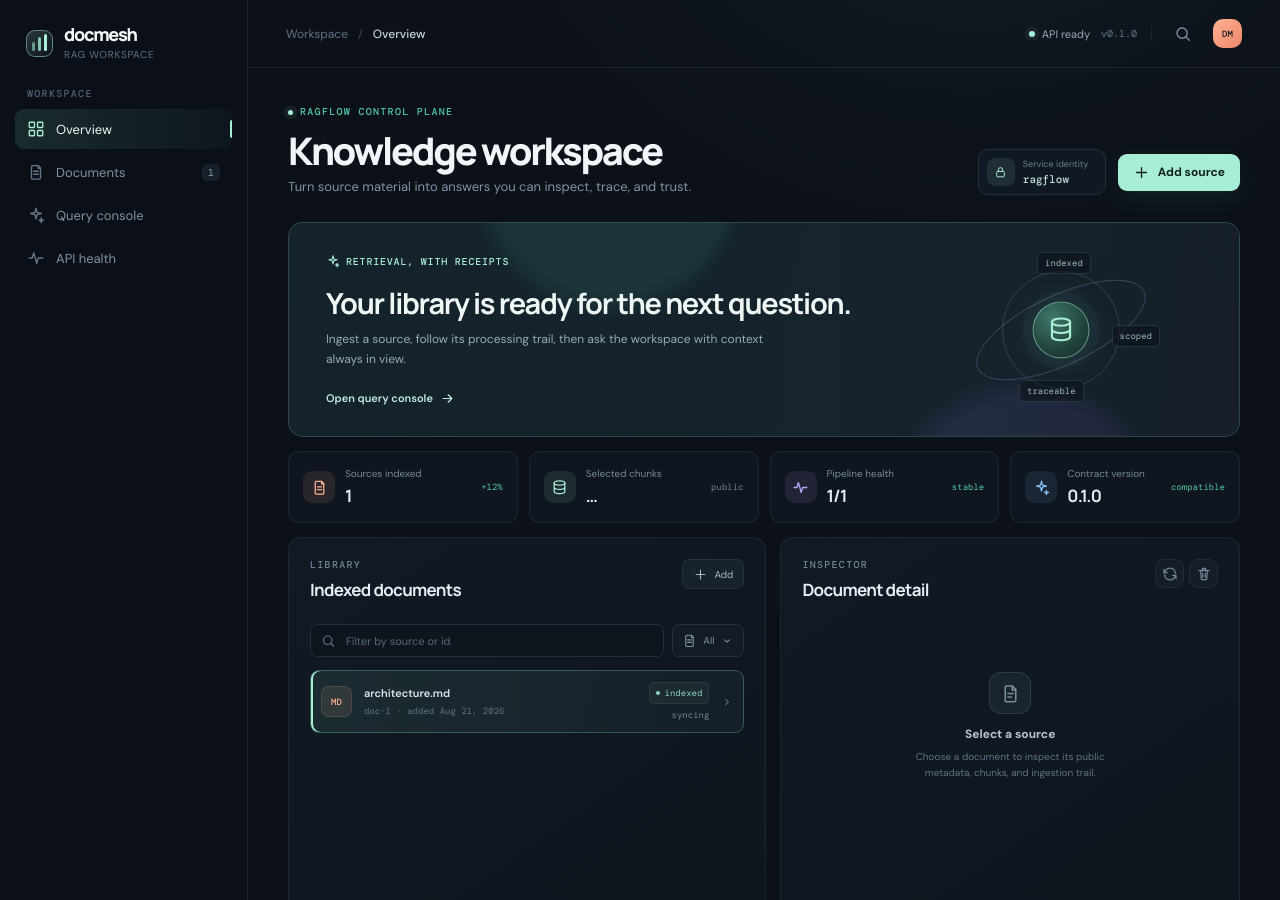
Test: RAG Flow workspace › changes the main view and active sidebar tab
The width and height of the screenshot is (1280, 900).
expect the text "architecture.md" is shown: met, box [364,686,450,700]
Click the button "Documents 1": (124, 172) [15,152,232,192]
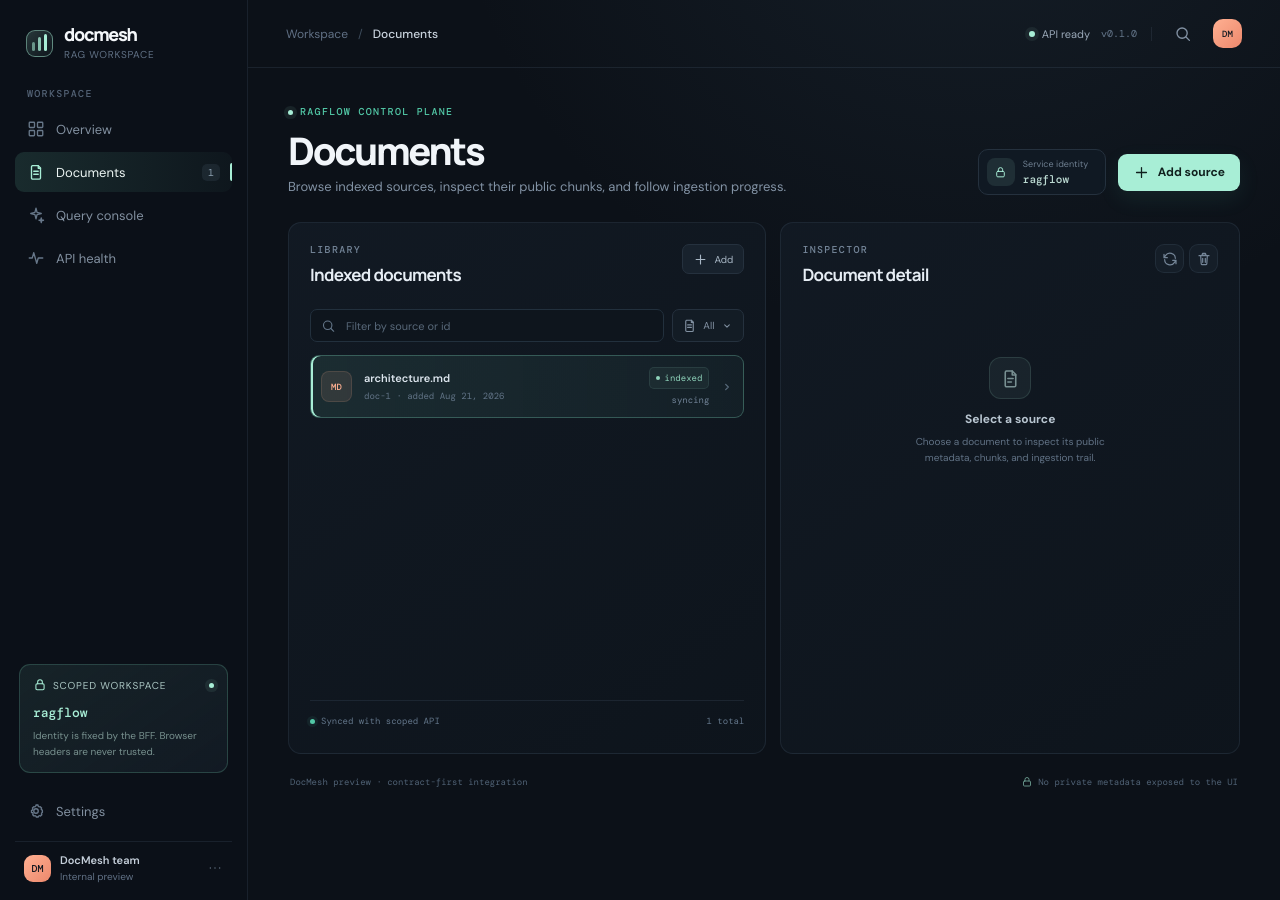
expect the heading "Documents" is shown: met, box [288,124,483,176]
expect the heading "Your library is ready for the next question." is gone: met
Click the button "Query console": (124, 215) [15,195,232,235]
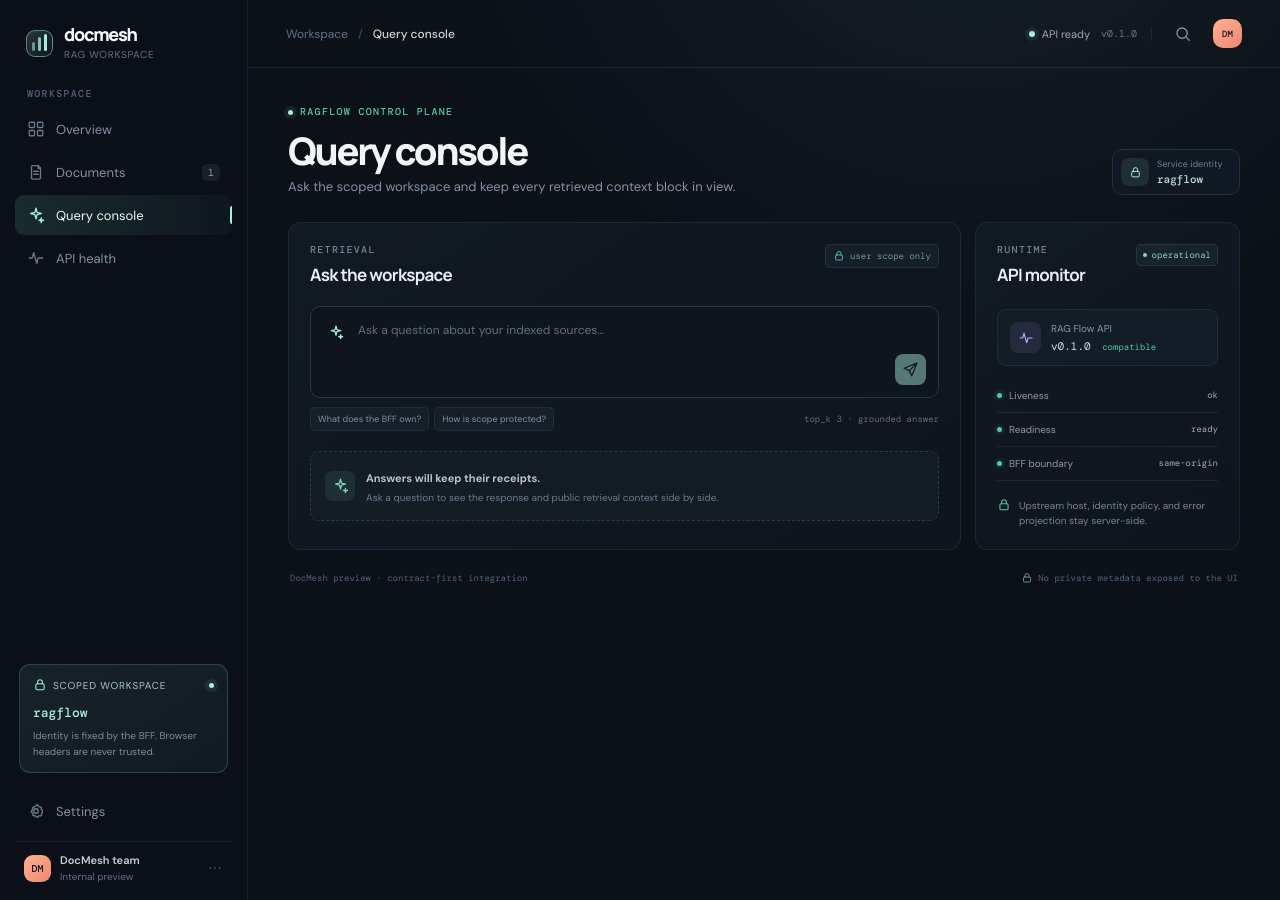
expect the heading "Query console" is shown: met, box [288,124,527,176]
Click the button "API health": (124, 258) [15,238,232,278]
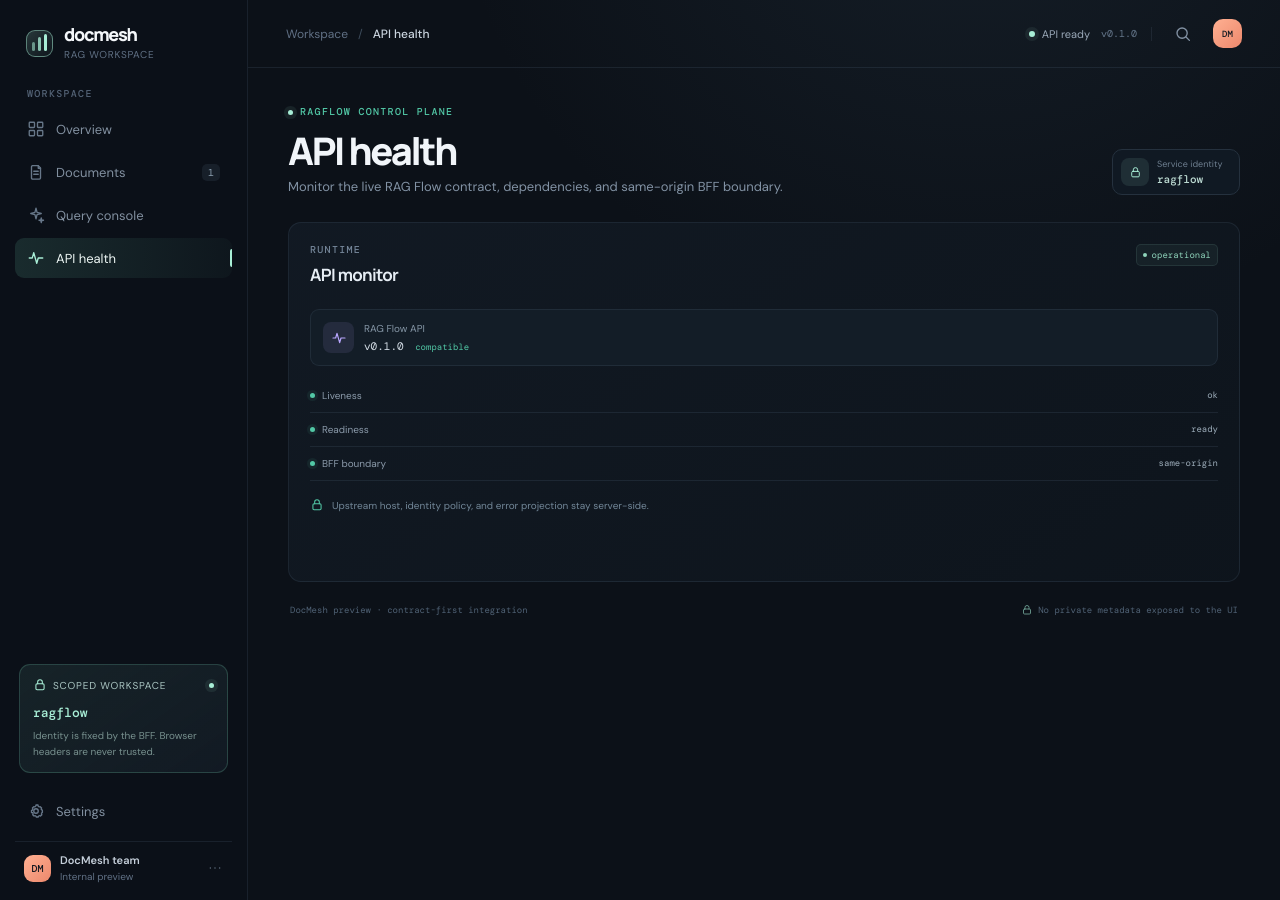
expect the heading "API health" is shown: met, box [288,124,456,176]
Click the button "Settings": (124, 811) [15,791,232,831]
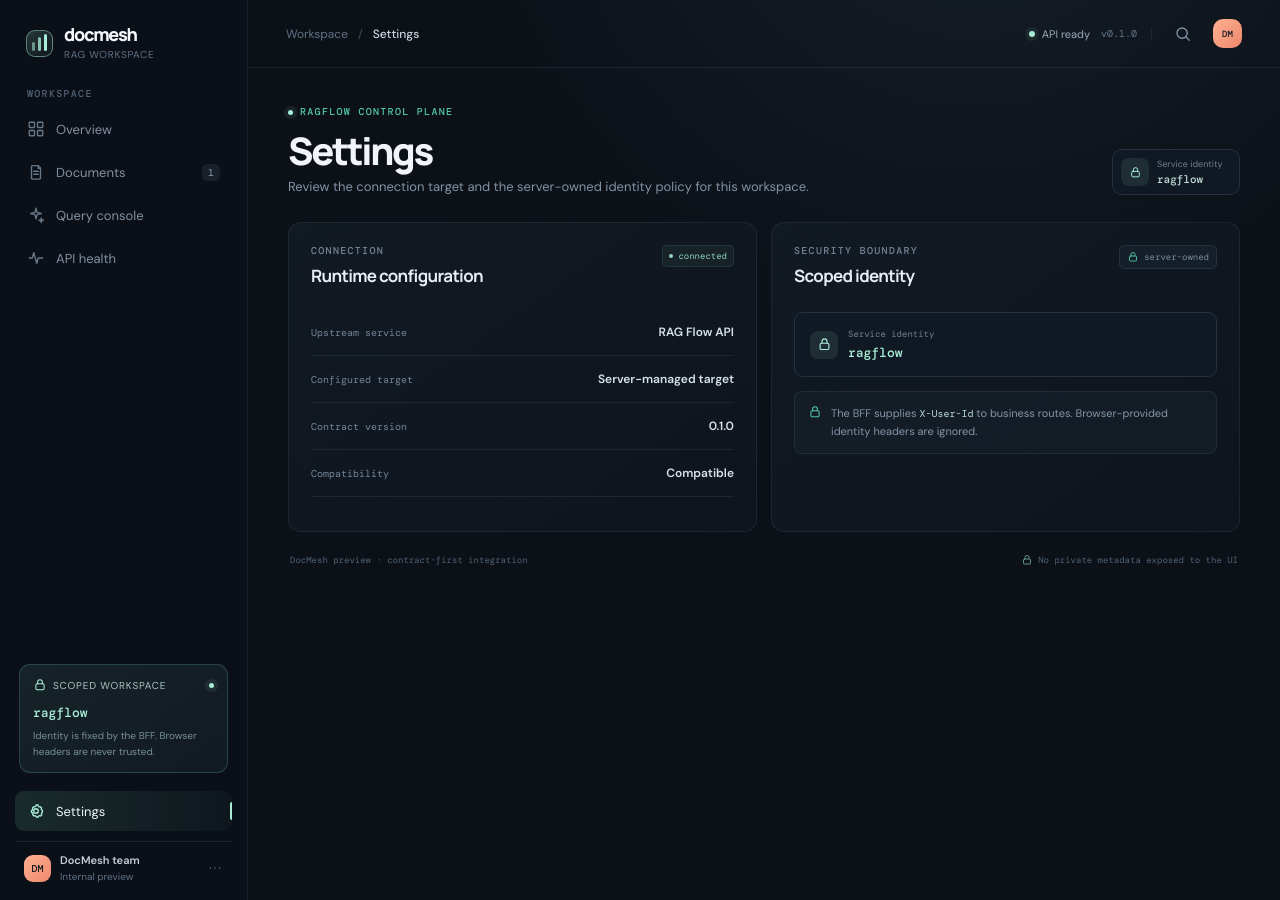
expect the heading "Settings" is shown: met, box [288,124,432,176]
